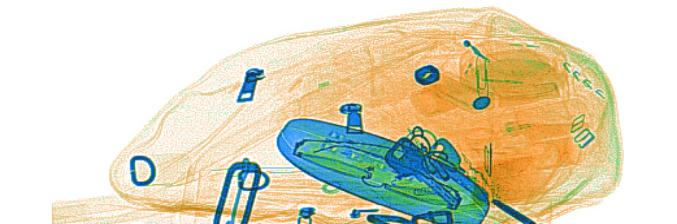plasticBottleWithaNozzle: (376, 143, 560, 215), (472, 97, 592, 153)
